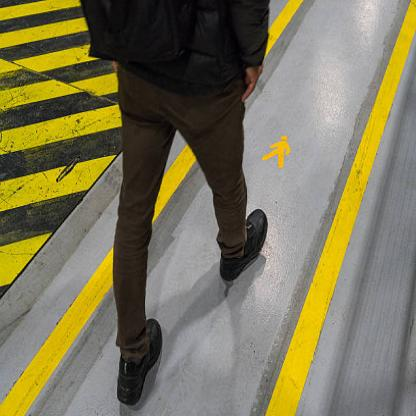bota: (114, 314, 164, 409), (217, 206, 270, 284)
